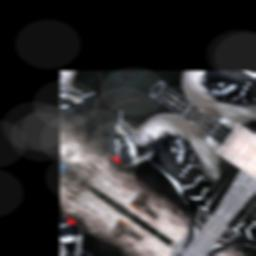Woodpecker: (73, 82, 253, 251)
